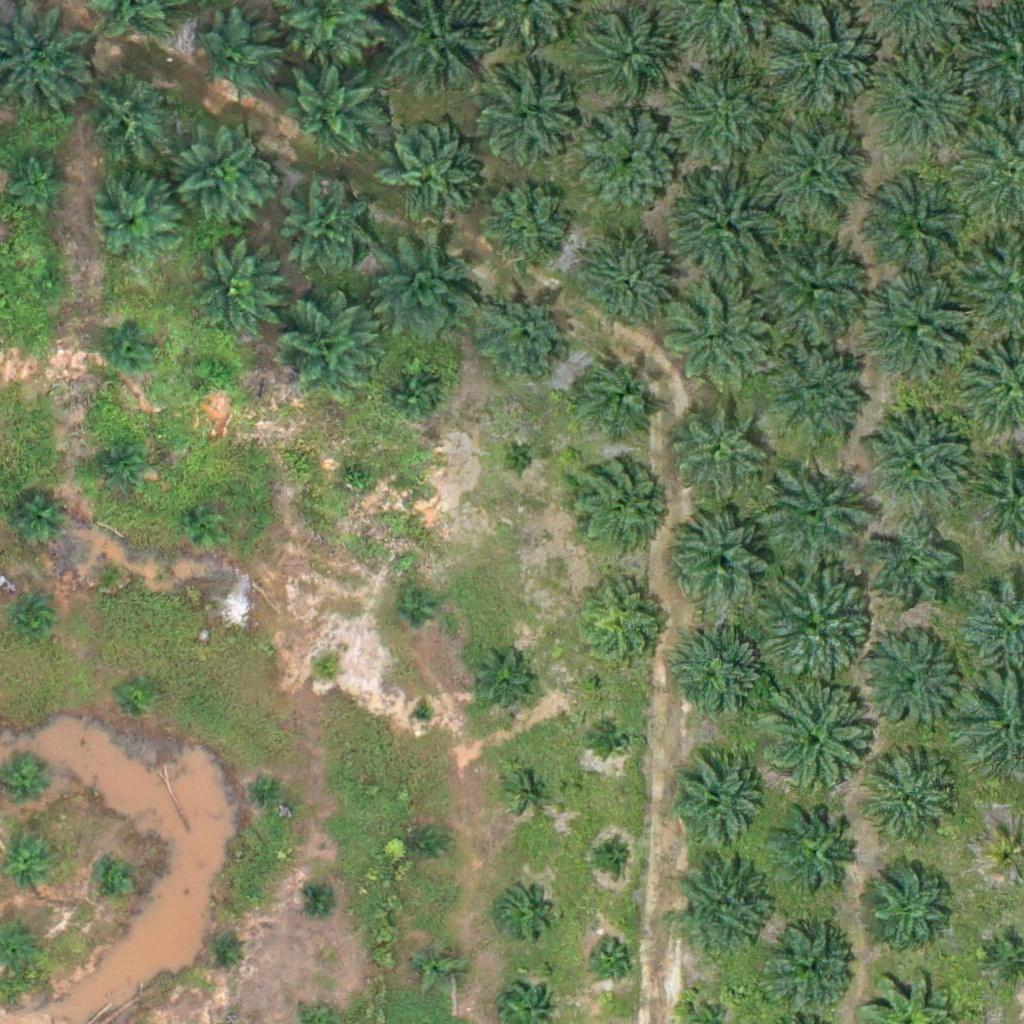Kelapa_Sawit: (661, 162, 786, 288), (658, 55, 783, 181), (759, 6, 884, 132), (752, 226, 877, 352), (750, 563, 875, 688), (750, 682, 875, 807), (372, 235, 485, 348), (757, 119, 870, 232), (862, 409, 975, 522), (759, 340, 872, 453), (756, 458, 869, 571), (864, 169, 976, 282), (661, 285, 773, 398), (279, 59, 379, 160), (174, 128, 274, 229), (78, 65, 178, 166), (380, 126, 480, 227), (477, 74, 577, 175), (581, 112, 681, 213), (577, 237, 677, 338), (865, 521, 965, 622), (860, 630, 960, 731), (663, 391, 763, 492), (674, 508, 774, 609), (671, 627, 771, 728), (668, 755, 768, 856), (566, 346, 666, 447), (568, 452, 668, 553), (573, 573, 673, 674), (279, 300, 379, 401), (676, 857, 776, 958), (876, 64, 976, 164), (870, 281, 970, 381), (182, 240, 282, 340), (871, 759, 959, 848), (194, 13, 282, 101), (281, 183, 369, 271), (584, 17, 672, 105), (768, 923, 856, 1011), (775, 810, 863, 898), (92, 180, 179, 269), (481, 291, 568, 380), (480, 184, 567, 272), (865, 855, 952, 943), (468, 654, 531, 717), (8, 148, 70, 211), (9, 497, 59, 548), (387, 368, 437, 419), (498, 884, 548, 935), (414, 941, 464, 992), (4, 839, 54, 889), (587, 931, 637, 981), (93, 442, 143, 492), (106, 319, 156, 369), (404, 826, 442, 864), (196, 354, 234, 392), (187, 505, 225, 543), (339, 461, 377, 499), (501, 442, 539, 480), (307, 651, 345, 689), (598, 720, 636, 758), (97, 863, 134, 901), (592, 837, 629, 875), (510, 770, 547, 808), (304, 881, 342, 918), (30, 266, 67, 304), (391, 590, 428, 628), (88, 551, 125, 589), (14, 601, 51, 638), (202, 929, 239, 966), (119, 674, 156, 711), (250, 772, 287, 809), (410, 700, 435, 725)
